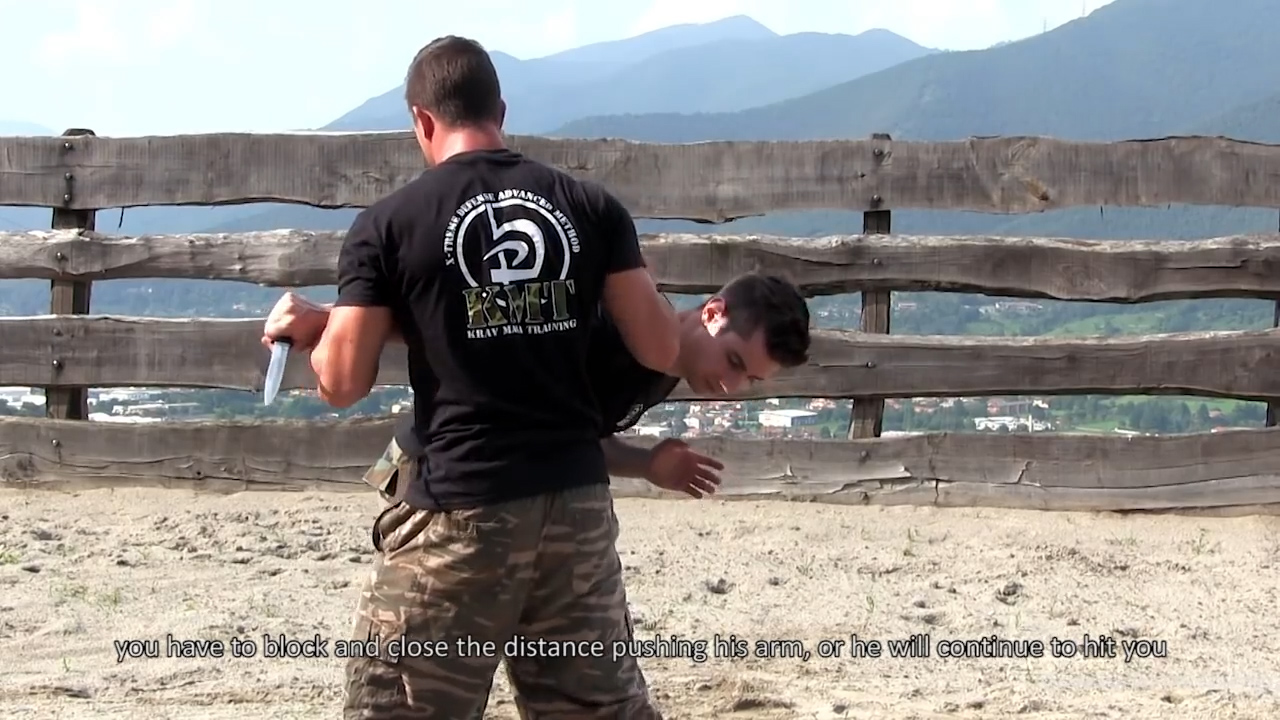knife: (253, 289, 308, 414)
